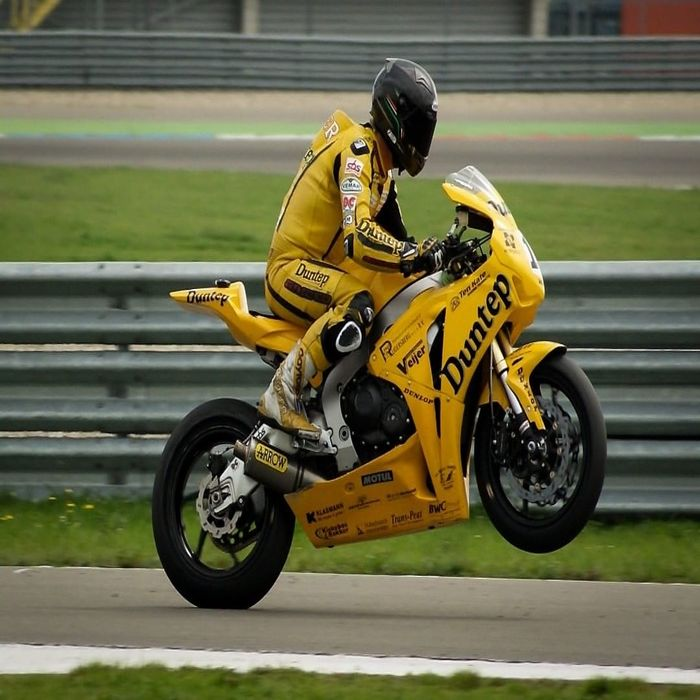h: (367, 56, 439, 181)
